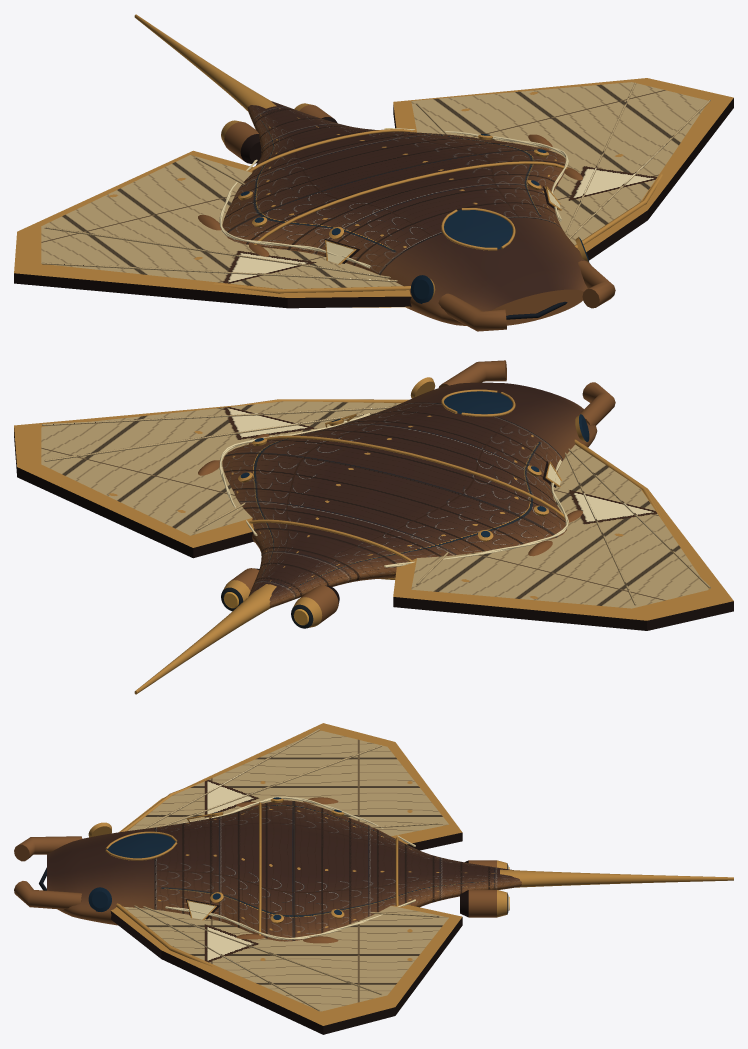
3 renders of one model, top to bottom at view 1: azimuth 30°, elevation 25°; view 2: azimuth 150°, elevation 25°; view 3: azimuth 270°, elevation 25°, orthographic. The views are drawn at different scales.
Visible parts, largest first — view 1: manta_ray_hull; view 2: manta_ray_hull; view 3: manta_ray_hull.
Part boxes in pixels (left/top/right/bottom): manta_ray_hull: left=14, top=14, right=733, bottom=331; manta_ray_hull: left=14, top=360, right=733, bottom=694; manta_ray_hull: left=14, top=723, right=733, bottom=1034.
Size of the model in its own units: 81.66 by 9.18 by 82.
1 material, 1 textured.
